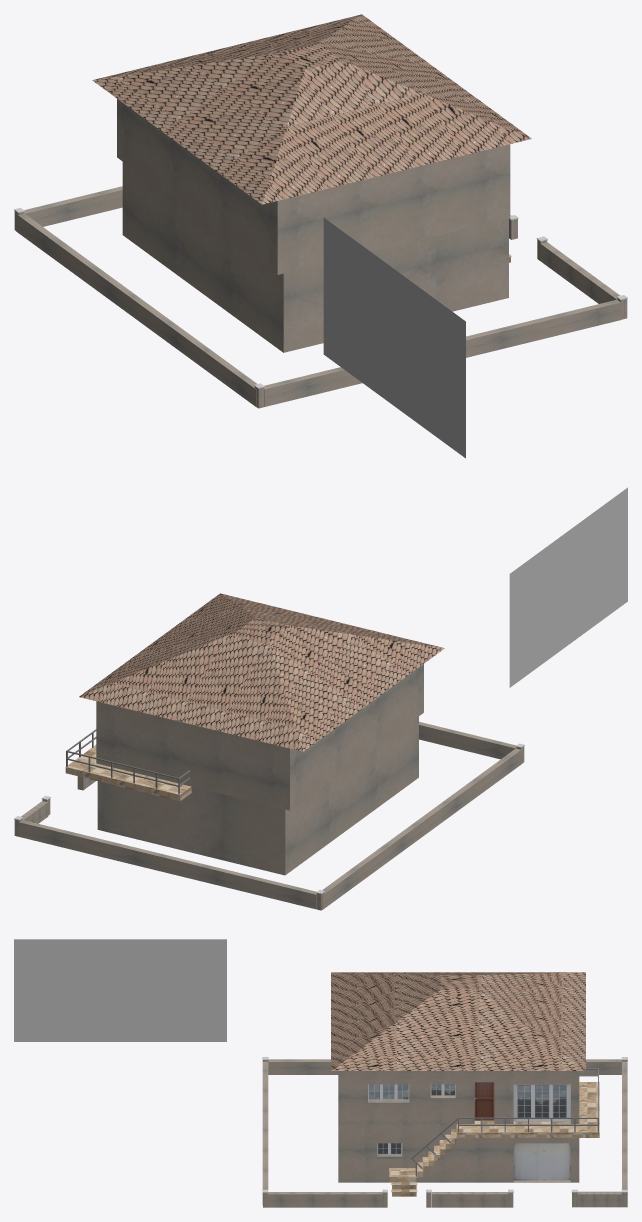
File: Maison2.fbx
3 views of the same model, one above another, from view 1: azimuth 30°, elevation 25°; view 2: azimuth 150°, elevation 25°; view 3: azimuth 270°, elevation 25° (orthographic). The views are drawn at different scales.
Visible parts, largest first — view 1: Cube.002, Cube.001, Cube, Screenshot 2026-01-23 021347, Cube.023, Cube.027, Cube.021, Cube.013; view 2: Cube.002, Cube, Cube.001, Screenshot 2026-01-23 021347, Cube.021, Cube.023, Cube.003, Cube.027; view 3: Cube.002, Screenshot 2026-01-23 021347, Cube.001, Cube, Cube.003, Cube.013, Cube.023, Cube.019, Cube.027, Cube.021, Cube.025, Cube.004.
Boxes of the visible parts, bbox=[...] form: Cube.002: bbox=[92, 14, 531, 204]; Cube.001: bbox=[117, 99, 510, 274]; Cube: bbox=[122, 162, 508, 352]; Screenshot 2026-01-23 021347: bbox=[323, 218, 465, 458]; Cube.023: bbox=[16, 213, 256, 407]; Cube.027: bbox=[264, 299, 621, 406]; Cube.021: bbox=[24, 186, 122, 226]; Cube.013: bbox=[540, 242, 620, 303]; Cube.002: bbox=[79, 593, 444, 751]; Cube: bbox=[97, 716, 418, 875]; Cube.001: bbox=[96, 664, 423, 810]; Screenshot 2026-01-23 021347: bbox=[509, 487, 627, 687]; Cube.021: bbox=[19, 820, 316, 909]; Cube.023: bbox=[322, 748, 523, 909]; Cube.003: bbox=[65, 744, 191, 800]; Cube.027: bbox=[419, 721, 516, 759]; Cube.002: bbox=[331, 972, 585, 1070]; Screenshot 2026-01-23 021347: bbox=[14, 939, 226, 1041]; Cube.001: bbox=[338, 1071, 579, 1123]; Cube: bbox=[338, 1124, 579, 1182]; Cube.003: bbox=[389, 1082, 599, 1182]; Cube.013: bbox=[267, 1192, 382, 1207]; Cube.023: bbox=[265, 1059, 621, 1074]; Cube.019: bbox=[431, 1192, 509, 1207]; Cube.027: bbox=[262, 1061, 268, 1204]; Cube.021: bbox=[622, 1061, 627, 1189]; Cube.025: bbox=[577, 1191, 621, 1207]; Cube.004: bbox=[391, 1182, 417, 1196].
Bounding box in the file's own units: 2197 × 1198 × 4217.
